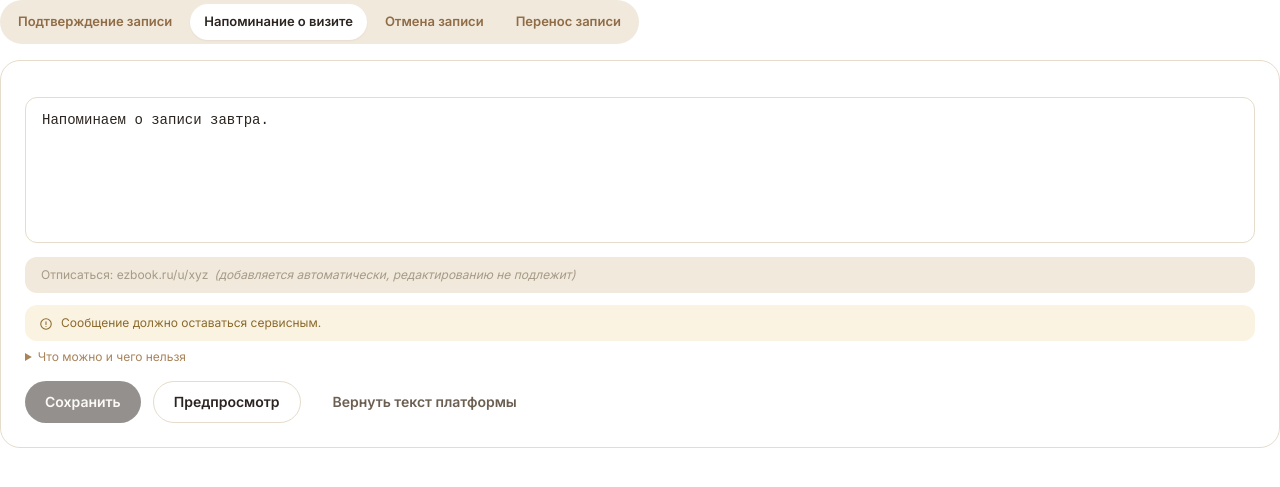
Scenario: NotificationTemplatesTab › highlights ad markers found in the current text, using the server-provided dictionary
Type " Скидка 20%!" into the text box showing "Напоминаем о записи завтра." at coordinates (640, 170), box [25,96,1255,242]
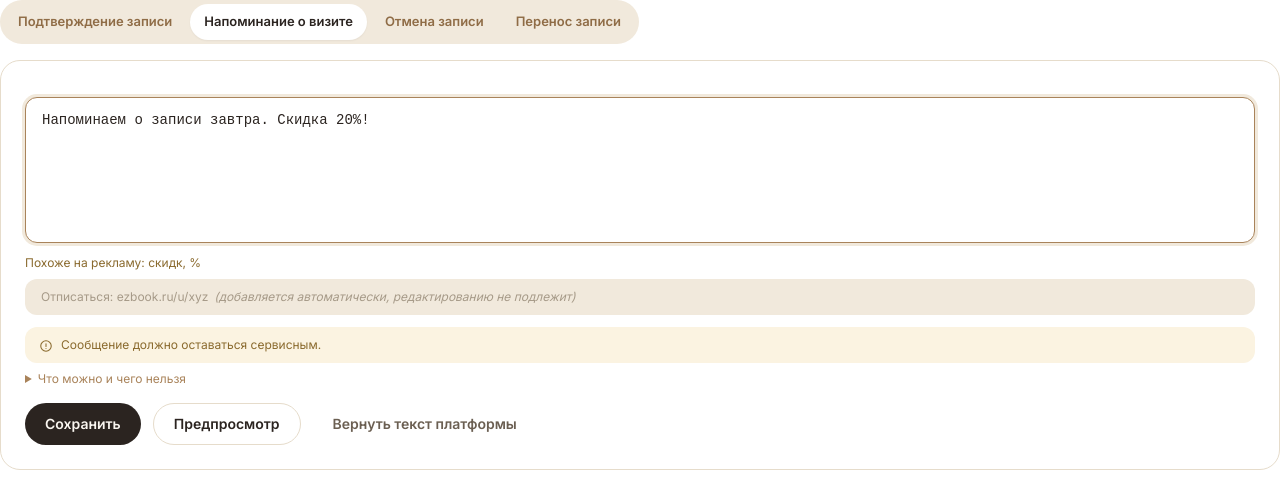
Check: the text "Похоже на рекламу: скидк, %" is shown, box [25,254,201,270]
